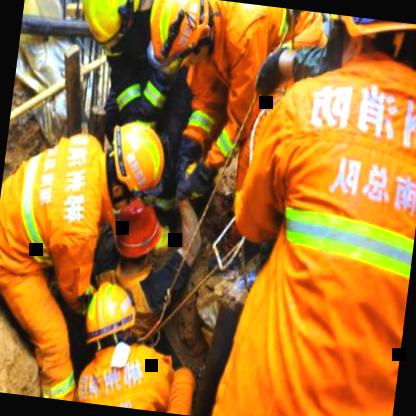helmet: (76, 274, 145, 366), (329, 14, 416, 84), (104, 120, 170, 204), (108, 196, 166, 276), (144, 0, 210, 66), (73, 0, 141, 46)
